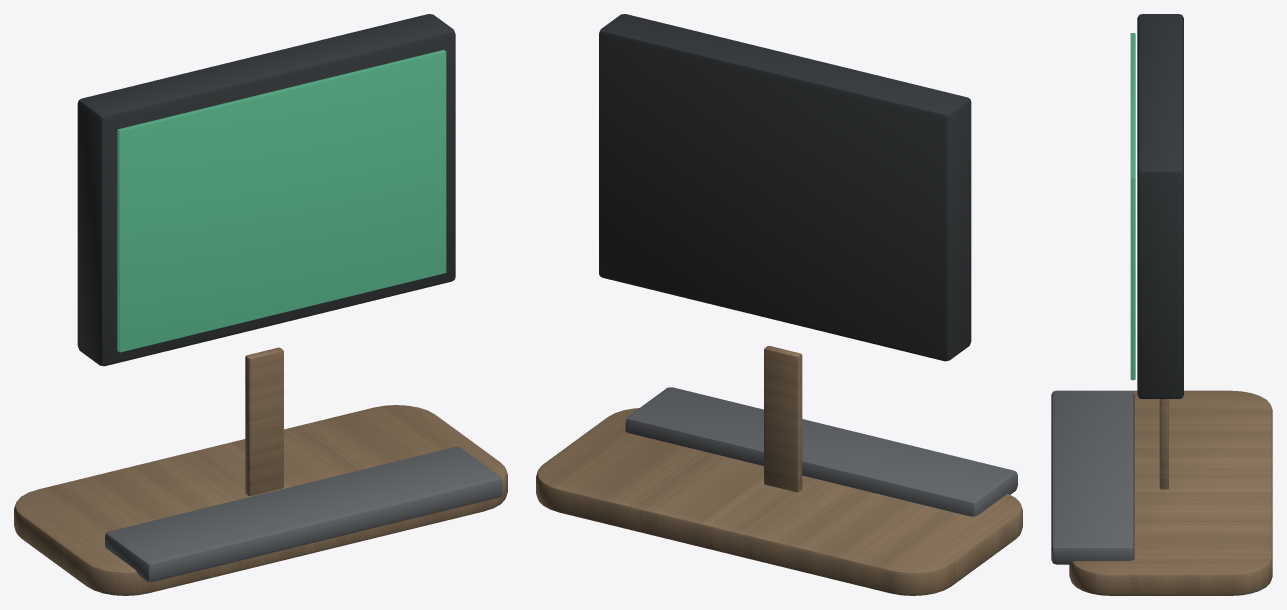
File: computer_premium.glb
The picture shows the model from 3 angles, left to right: view 1: azimuth 30°, elevation 25°; view 2: azimuth 150°, elevation 25°; view 3: azimuth 270°, elevation 25°; orthographic projection. The views are drawn at different scales.
Parts seen in each view (by area): view 1: Computer_Monitor_1_Screen, Computer_Base, Computer_Monitor_1_Back, Computer_Keyboard, Computer_Monitor_1_Stem; view 2: Computer_Monitor_1_Back, Computer_Base, Computer_Keyboard, Computer_Monitor_1_Stem; view 3: Computer_Base, Computer_Monitor_1_Back, Computer_Keyboard, Computer_Monitor_1_Screen, Computer_Monitor_1_Stem.
Boxes of the visible parts, x1,y1,x2,y2 form: Computer_Monitor_1_Screen: (117,50,446,352); Computer_Base: (14,405,507,595); Computer_Monitor_1_Back: (77,14,455,366); Computer_Keyboard: (105,447,502,581); Computer_Monitor_1_Stem: (245,347,283,495); Computer_Monitor_1_Back: (599,14,971,361); Computer_Base: (536,408,1022,595); Computer_Keyboard: (625,387,1017,516); Computer_Monitor_1_Stem: (764,346,802,492); Computer_Base: (1069,390,1272,595); Computer_Monitor_1_Back: (1137,14,1183,398); Computer_Keyboard: (1051,390,1134,564); Computer_Monitor_1_Screen: (1130,33,1135,380); Computer_Monitor_1_Stem: (1159,399,1168,489).
Size of what is drawn, in the model's own units: 0.5208 by 0.5429 by 0.2635.
Materials: 4 (1 with a texture image).
